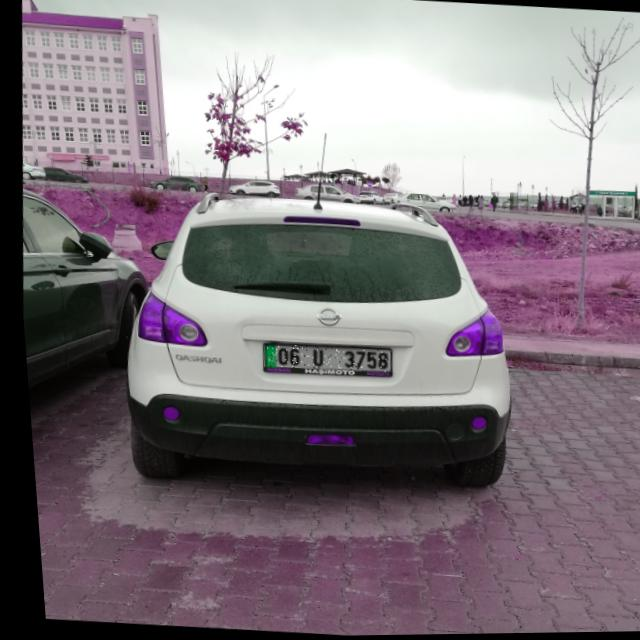license_plate: (258, 342, 385, 375)
